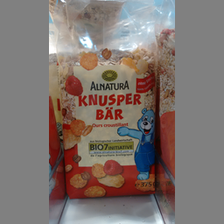cereal: (60, 39, 158, 203)
